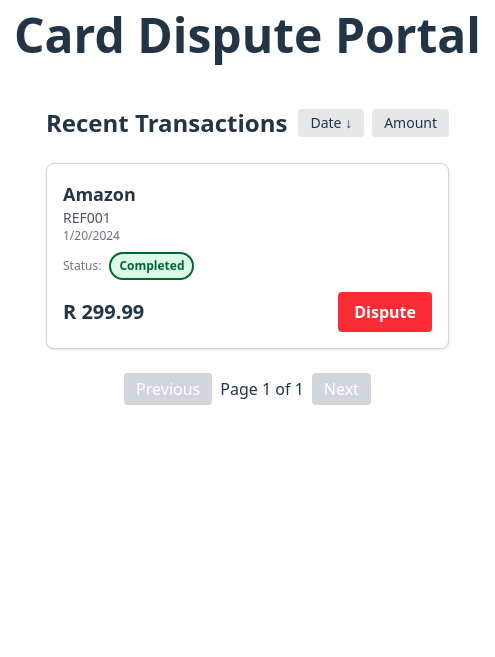
Test: Home › shows success message after dispute submission
Click the button "Dispute" at (385, 312), box 338,292 -> 432,332
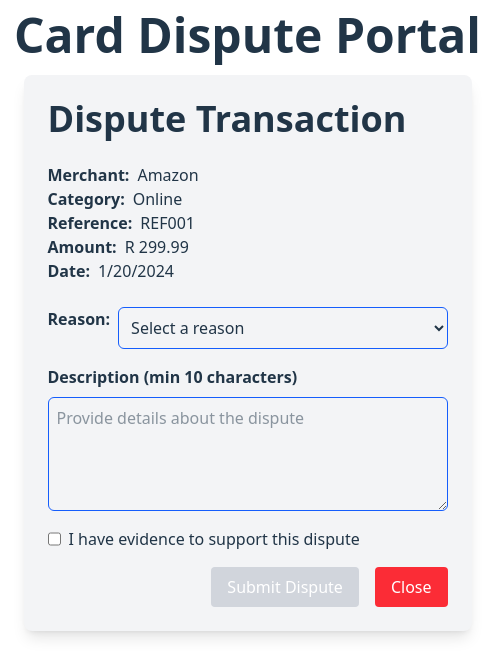
Select "Unauthorized Transaction" in the dropdown at (283, 328), box 118,307 -> 448,349
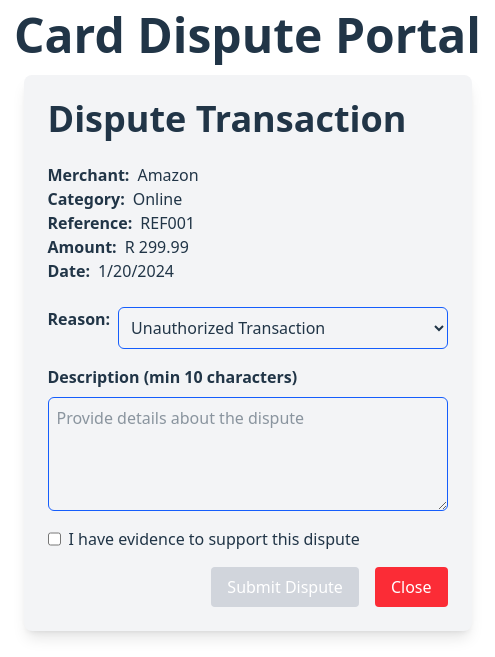
Type "Test dispute" into the text box at (248, 454), box 48,397 -> 448,511
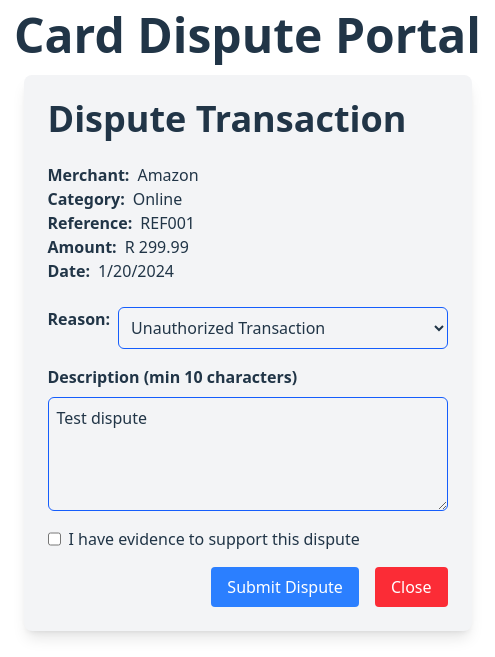
Click the button "Submit Dispute" at (285, 587), box 211,567 -> 359,607
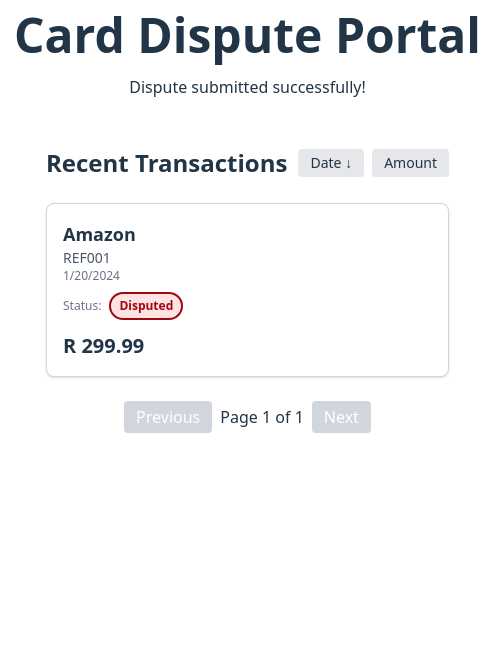
expect the text "Dispute submitted successfully!" is shown: met, box 129,75 -> 366,99
